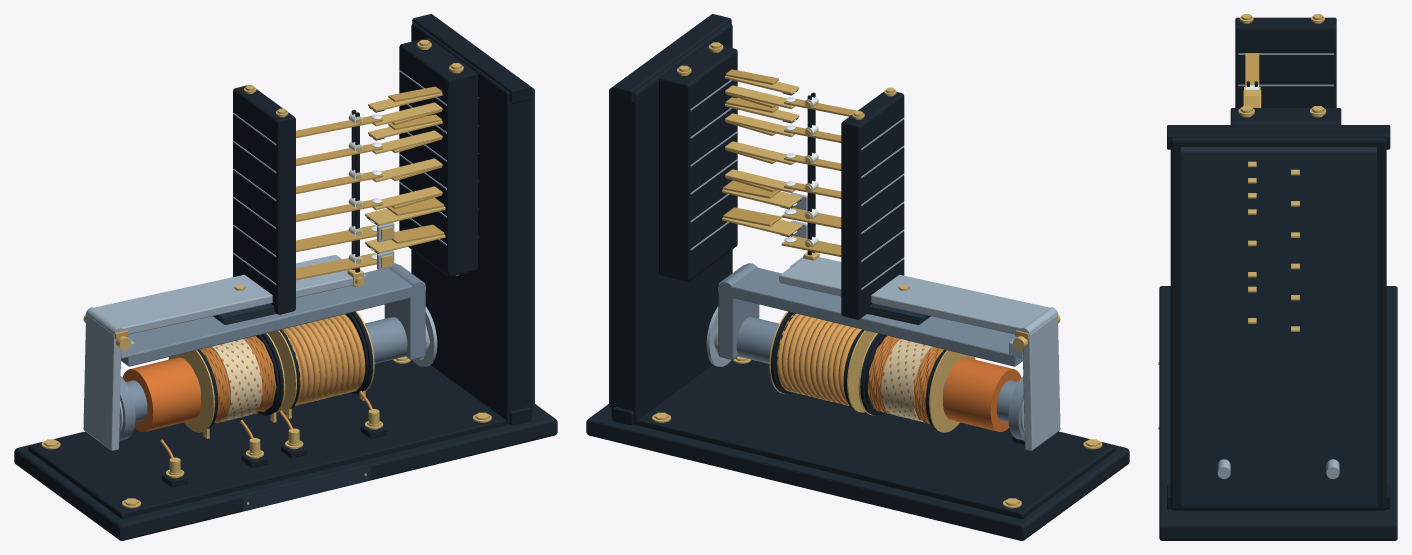
The model's file is JWJXC-H125-0.44-dropped.glb.
The picture shows the model from 3 angles, left to right: view 1: azimuth 30°, elevation 25°; view 2: azimuth 150°, elevation 25°; view 3: azimuth 270°, elevation 25°; orthographic projection. The views are drawn at different scales.
Visible parts, largest first — view 1: base (×6), contactBlock (×2), coil (×5), armature (×2), yoke (×2), copperSleeve, back (×4), core, common (×2), pole; view 2: base (×5), contactBlock (×2), coil (×5), armature (×2), yoke (×2), copperSleeve, core, pole, front; view 3: base (×4), contactBlock (×2), common.
Boxes of the visible parts, x1,y1,x2,y2 form: base (×6): (14, 14, 557, 540); contactBlock (×2): (233, 38, 477, 314); coil (×5): (168, 314, 365, 432); armature (×2): (83, 255, 364, 450); yoke (×2): (121, 264, 425, 366); copperSleeve: (122, 357, 201, 431); back (×4): (372, 102, 442, 210); core: (125, 317, 407, 422); common (×2): (296, 225, 376, 280); pole: (119, 376, 135, 440); base (×5): (586, 14, 1129, 540); contactBlock (×2): (659, 42, 904, 319); coil (×5): (776, 313, 975, 432); armature (×2): (779, 257, 1060, 450); yoke (×2): (718, 264, 1022, 366); copperSleeve: (942, 357, 1021, 431); core: (736, 317, 1018, 422); pole: (1008, 376, 1024, 440); front: (723, 207, 781, 226); base (×4): (1159, 125, 1397, 540); contactBlock (×2): (1230, 17, 1341, 124); common: (1245, 53, 1259, 86).
Size of the model in its own units: 6.05 by 4.73 by 2.55.
